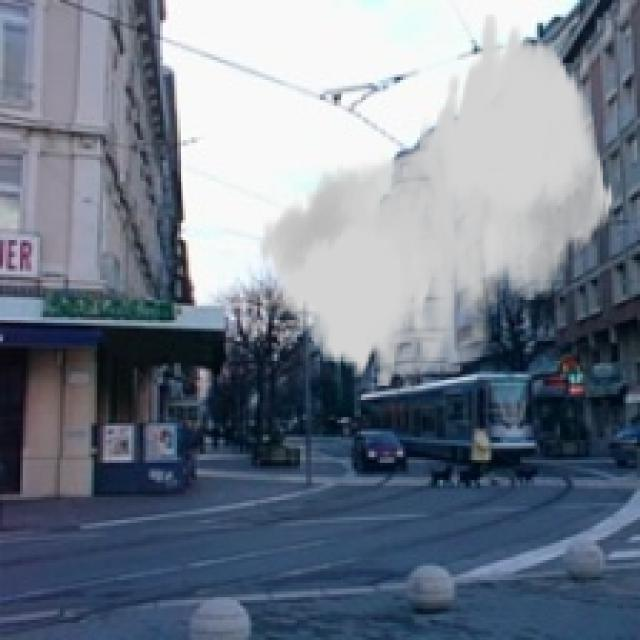smoke: (257, 14, 614, 389)
